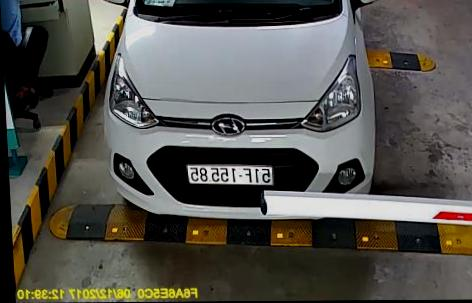License_Plate: (185, 160, 278, 187)
